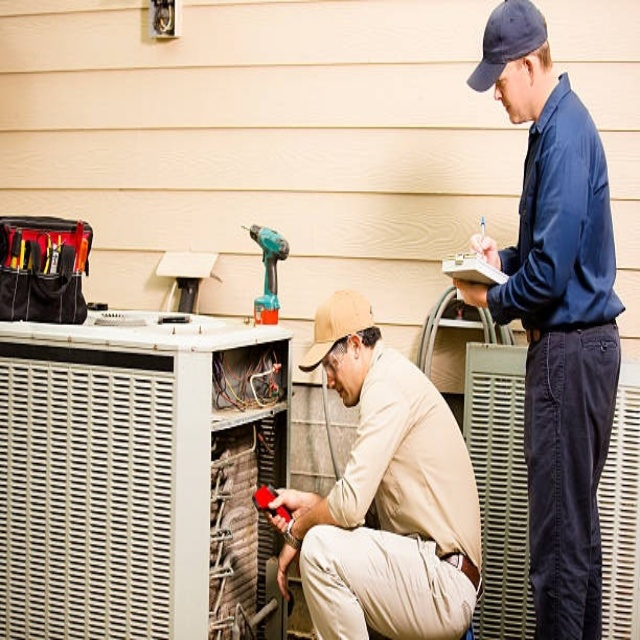Gafas: (325, 333, 350, 376)
Sin_gafas: (495, 61, 521, 93)
Sin_guantes: (449, 264, 490, 309), (266, 477, 307, 519), (468, 230, 499, 273), (276, 547, 299, 604)
Sin_mascara: (495, 93, 520, 124), (332, 381, 356, 406)
